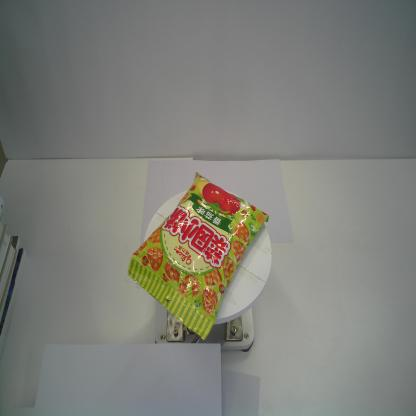Puffed Food: (127, 171, 271, 346)
